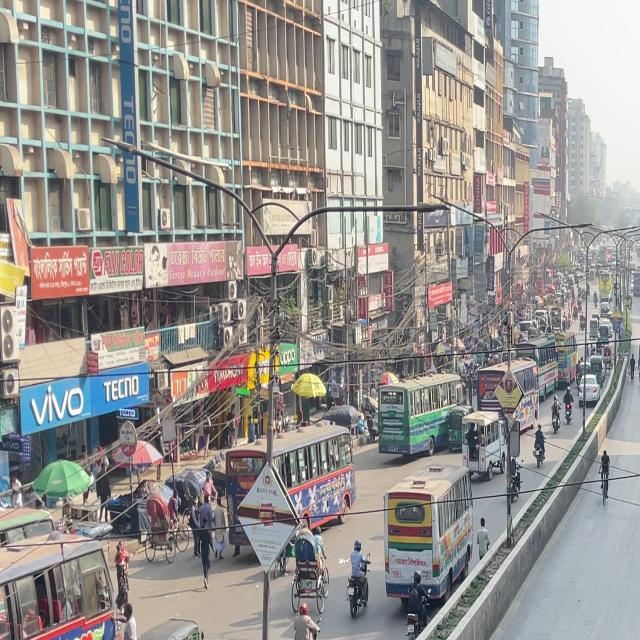bus: (0, 516, 125, 640), (239, 424, 361, 530), (382, 479, 470, 614), (378, 372, 470, 457)
motorbike: (527, 427, 547, 478), (564, 385, 576, 428)
rickshaw: (118, 612, 203, 640)
van: (465, 397, 510, 490)
